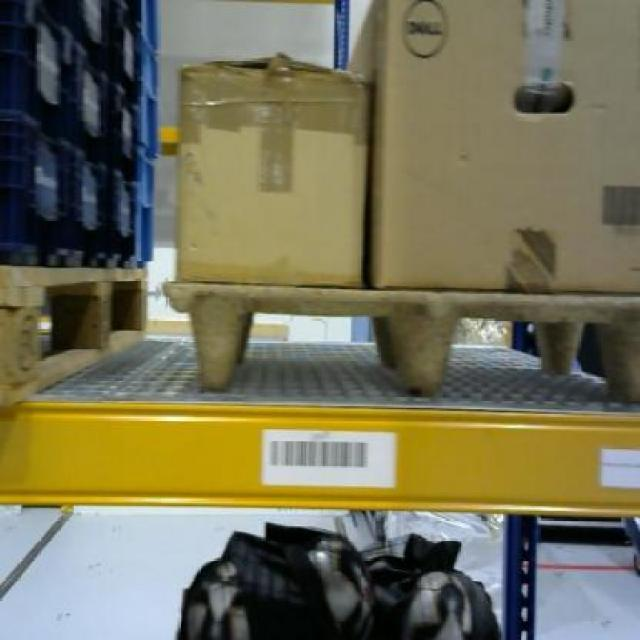box: (374, 0, 638, 286), (176, 50, 370, 284)
